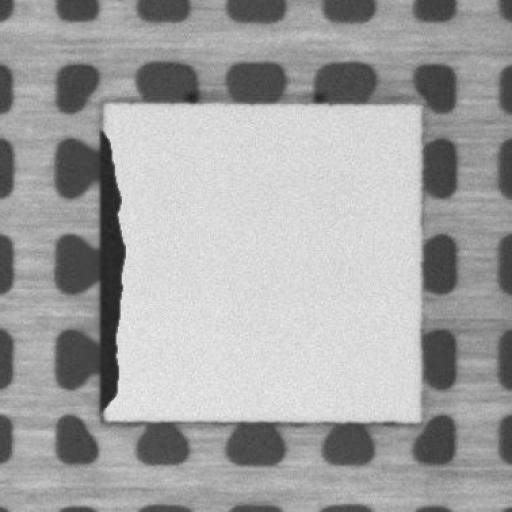DIE_BROKEN: (95, 124, 127, 410)
